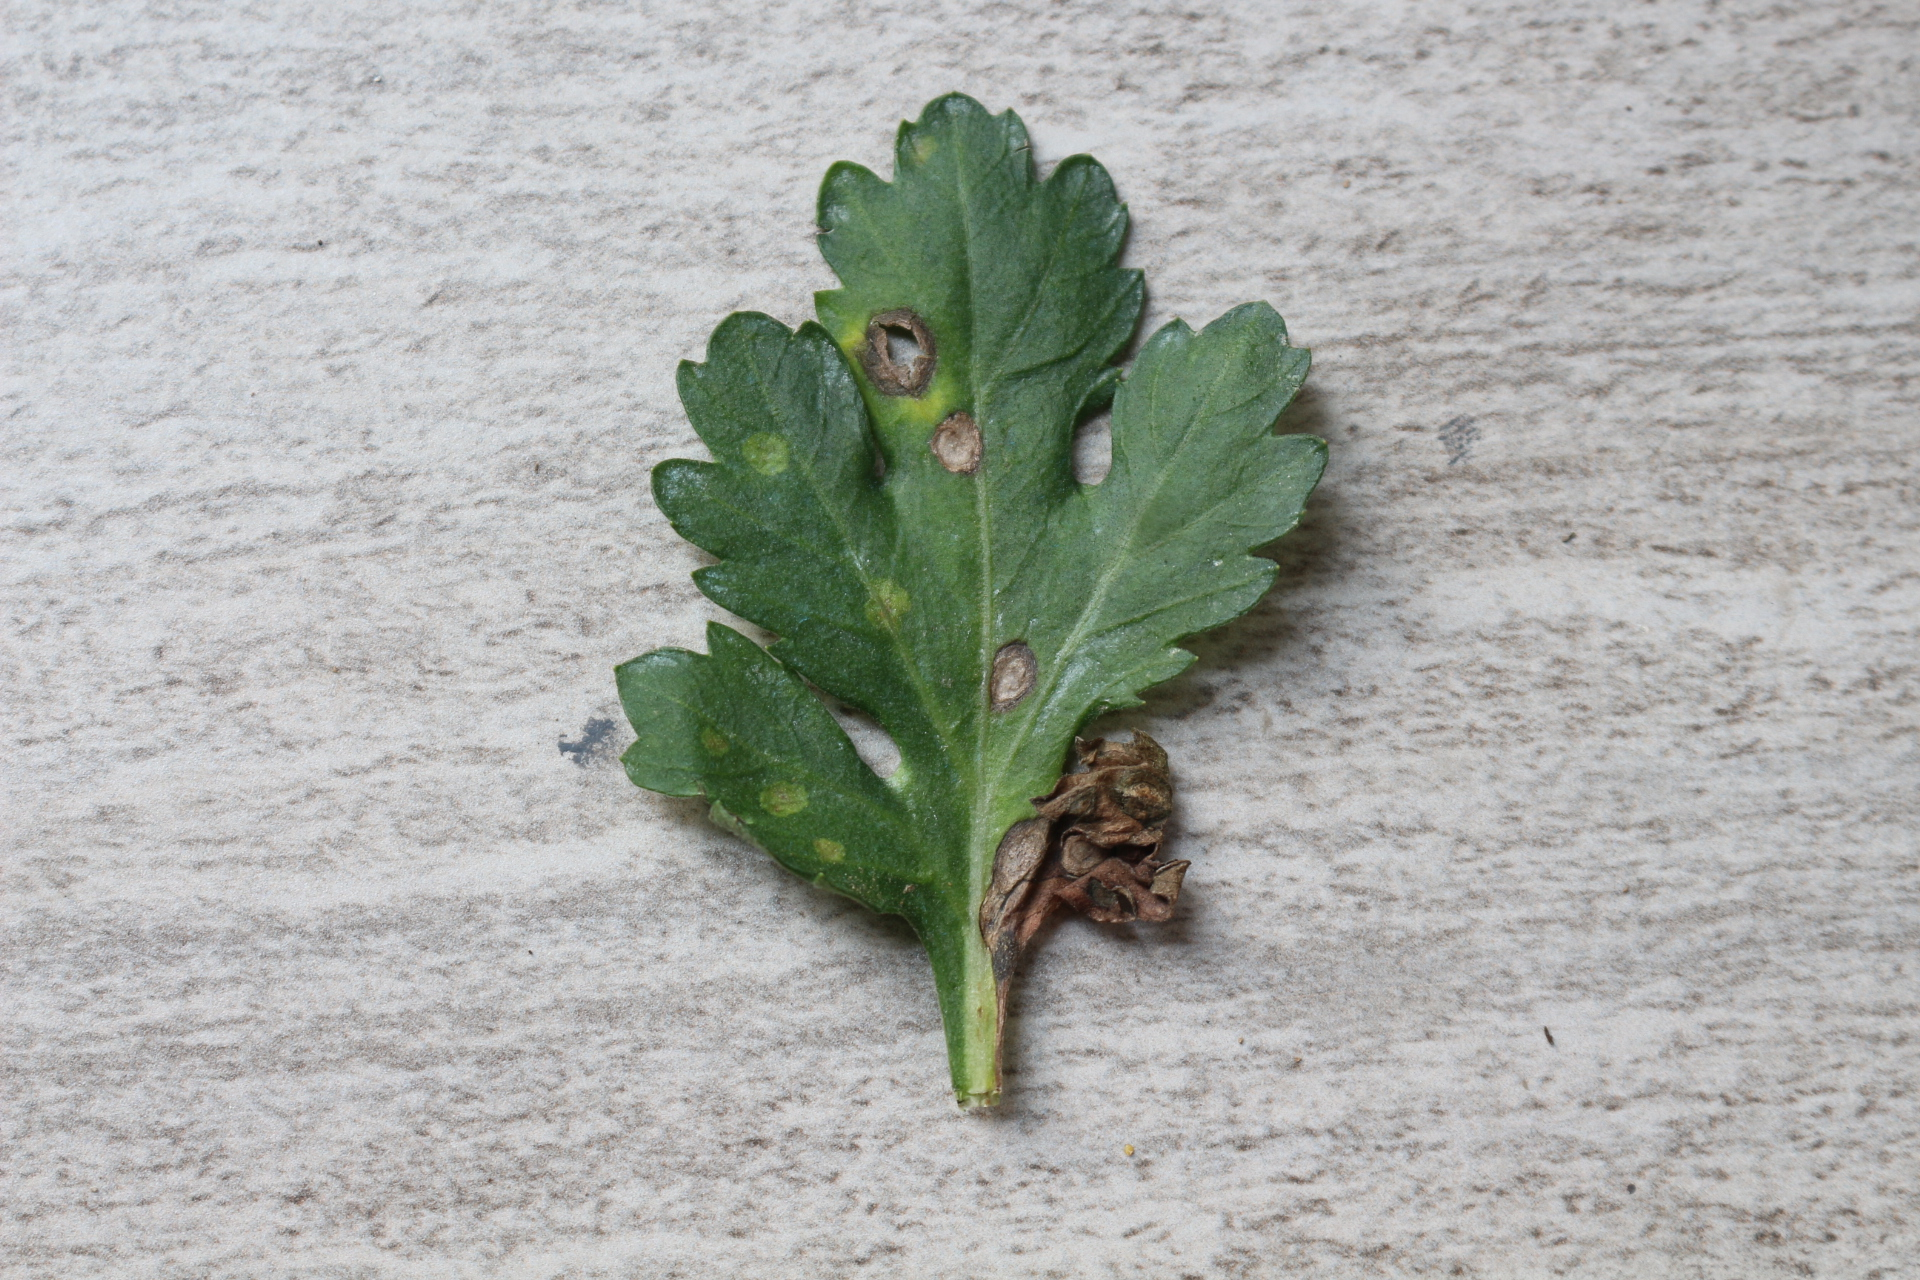namden: (976, 637, 1046, 720), (921, 407, 991, 477)
namsung: (734, 434, 793, 477), (867, 577, 910, 631), (759, 777, 813, 819), (694, 723, 734, 763), (809, 837, 850, 870)
